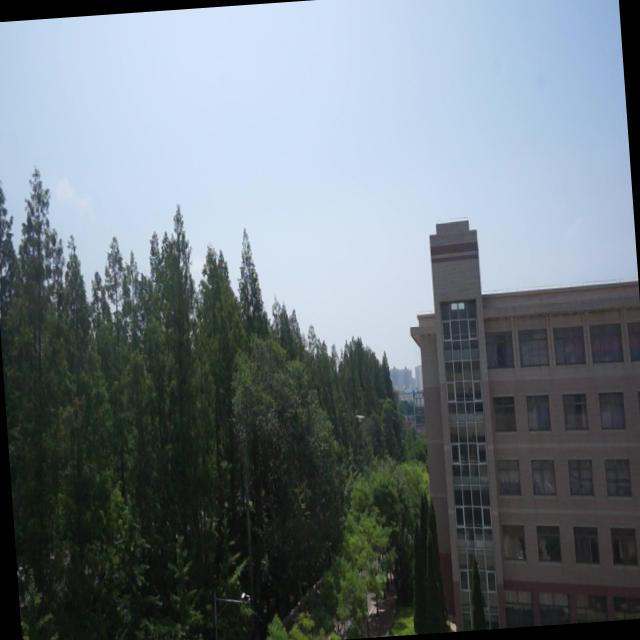drone: (352, 408, 366, 423)
